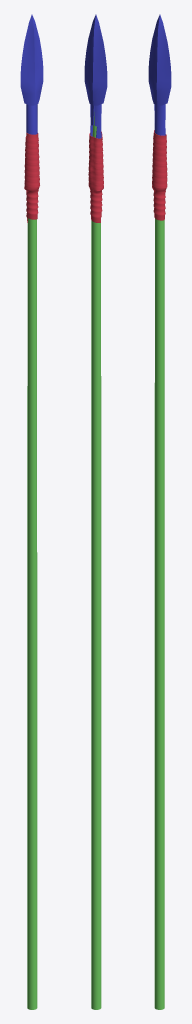
File: spear-nachtrag-modell.fbx
The picture shows the model from 3 angles, left to right: view 1: azimuth 30°, elevation 25°; view 2: azimuth 150°, elevation 25°; view 3: azimuth 330°, elevation 25°; orthographic projection.
Visible parts, largest first — view 1: wood_low, steel_low, rope5_low; view 2: wood_low, steel_low, rope5_low; view 3: wood_low, steel_low, rope5_low.
Boxes of the visible parts, box(x1,y1,x2,y2) form: wood_low: box(27, 218, 37, 1009); steel_low: box(20, 14, 43, 134); rope5_low: box(24, 133, 39, 222); wood_low: box(91, 112, 101, 1009); steel_low: box(84, 14, 107, 138); rope5_low: box(88, 131, 103, 222); wood_low: box(154, 218, 164, 1009); steel_low: box(148, 14, 171, 135); rope5_low: box(152, 130, 167, 220).
Size of the model in its own units: 3.48 by 144 by 1.94.
